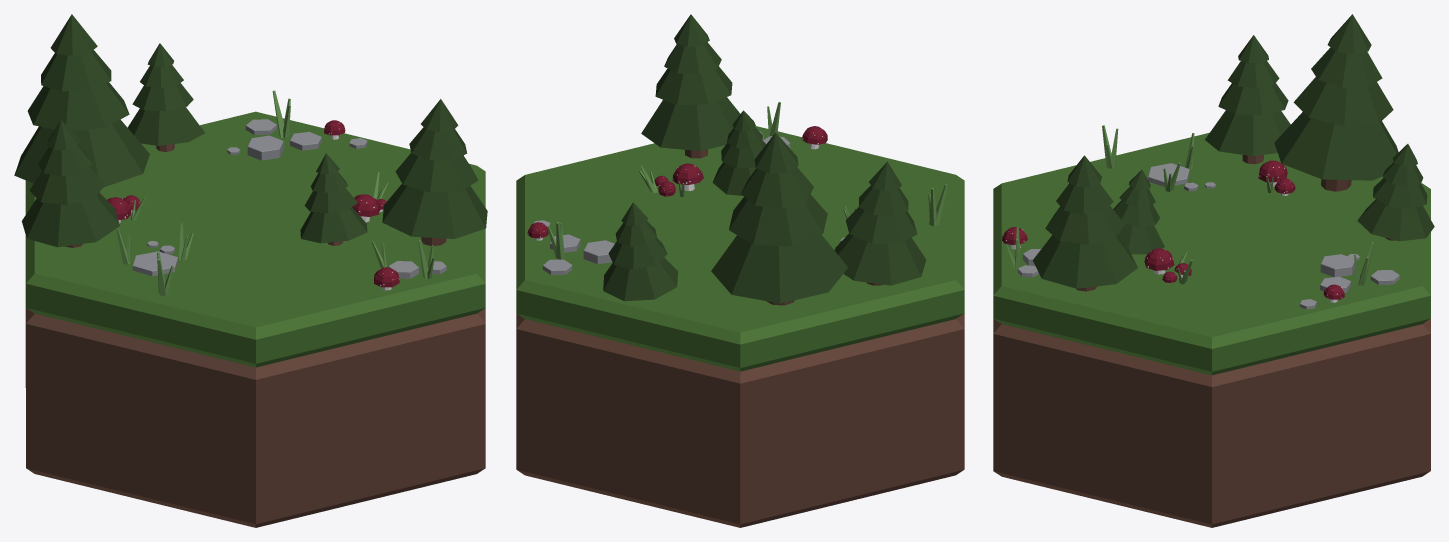
Rendered from Hexagon.fbx.
3 renders of one model, left to right at view 1: azimuth 30°, elevation 25°; view 2: azimuth 150°, elevation 25°; view 3: azimuth 270°, elevation 25°, orthographic. The views are drawn at different scales.
Visible parts, largest first — view 1: pCylinder332; view 2: pCylinder332; view 3: pCylinder332.
Boxes of the visible parts, x1,y1,x2,y2 form: pCylinder332: (14, 14, 487, 527); pCylinder332: (516, 14, 964, 527); pCylinder332: (993, 14, 1434, 527).
Size of the model in its own units: 12 by 9.45 by 10.49.
